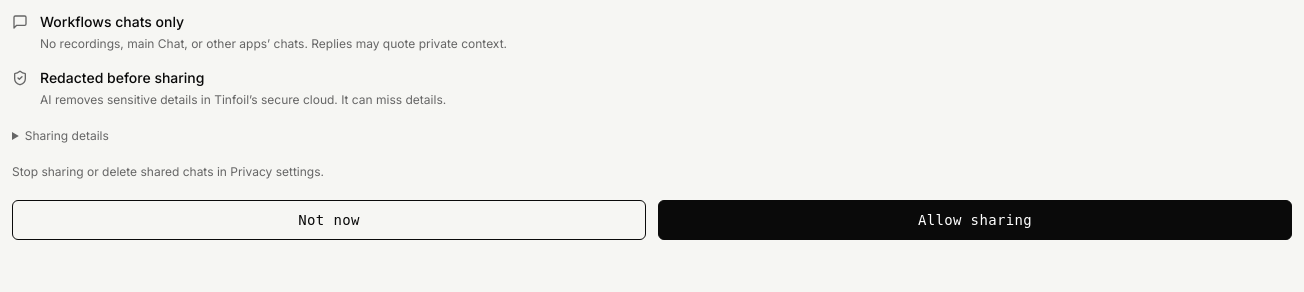
Scenario: sharing consent UI › keeps the prompt open when saving fails
The width and height of the screenshot is (1304, 292).
Click the button "Allow sharing".
click(975, 220)  # box [658, 200, 1292, 240]
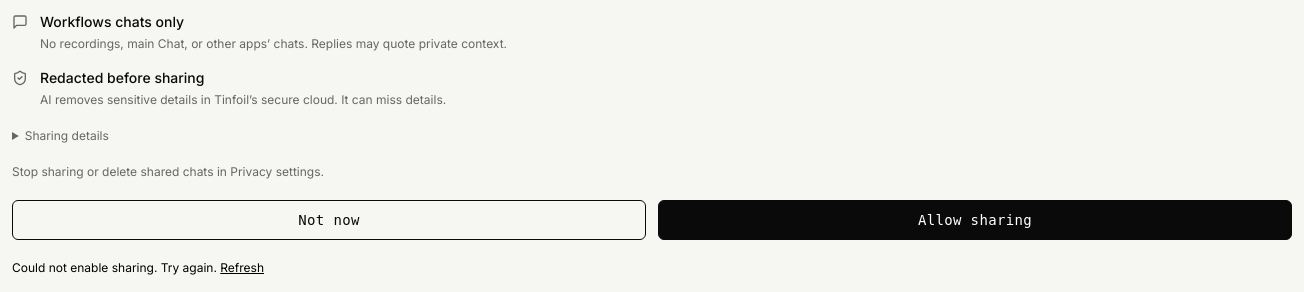
Result: the message shows "Could not enable sharing" at [12, 260, 217, 275]
